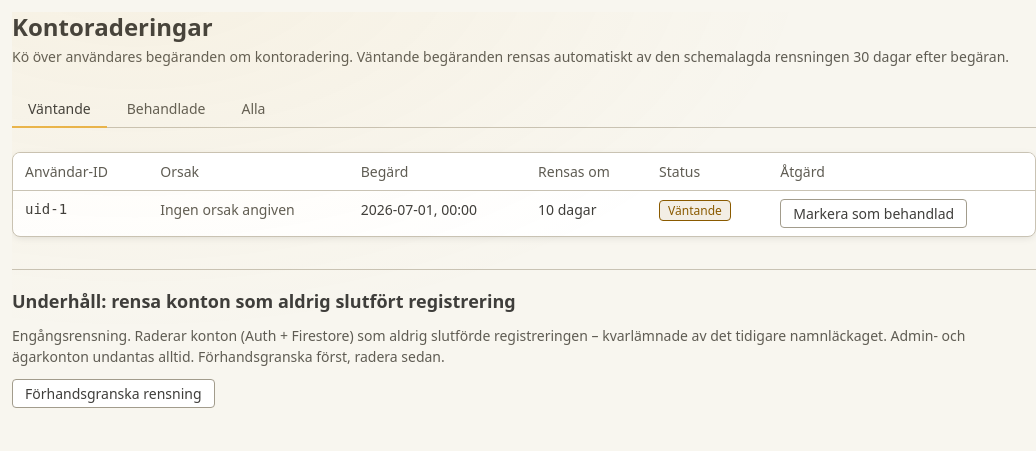
Test: AccountDeletionsPage error propagation › goes to the action catch (no success banner) when the post-action reload fails
Click the button "Markera som behandlad".
click(874, 214)  # box [780,199,967,228]
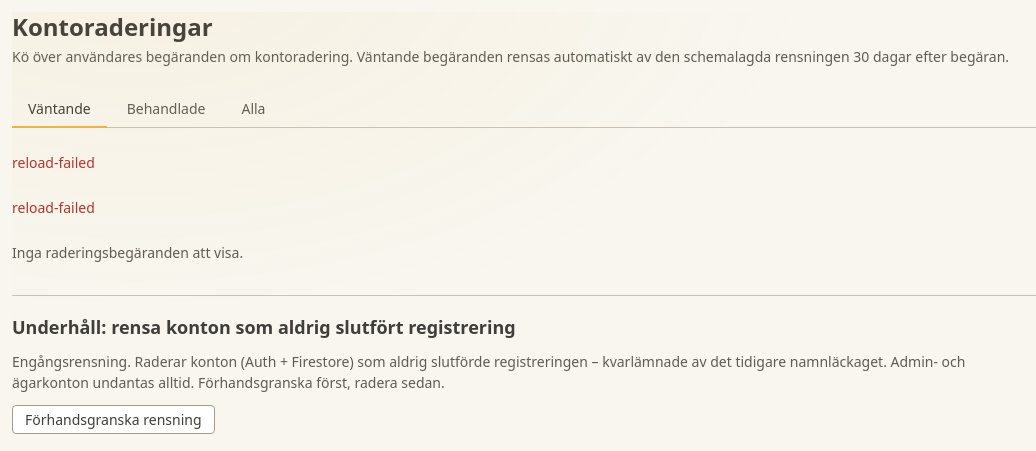
Check: the text "reload-failed" is shown, box [12,153,95,172]
